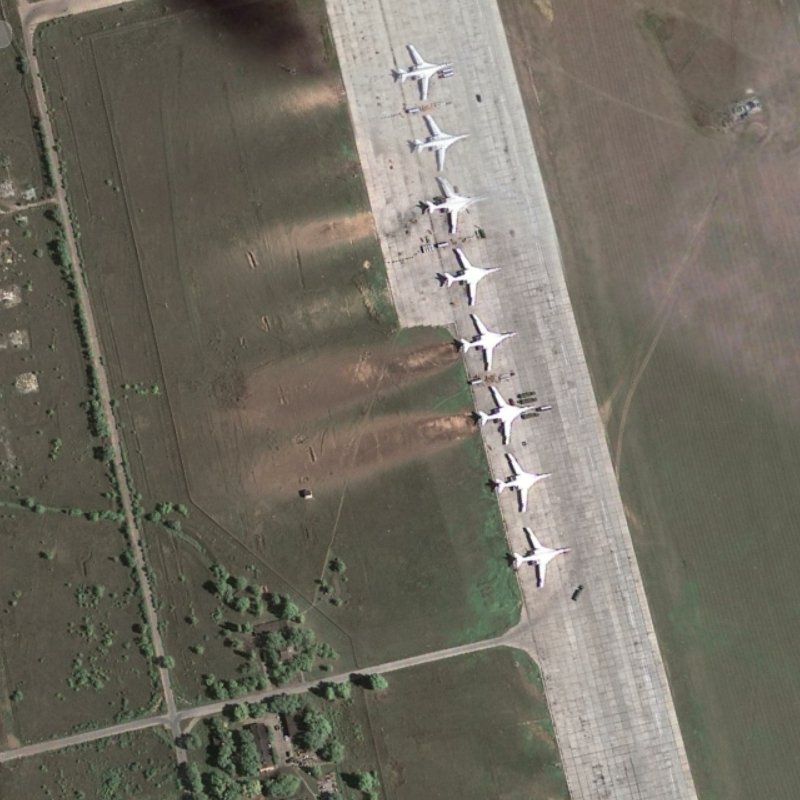A6: (420, 175, 489, 237), (456, 310, 520, 375), (511, 525, 574, 591), (409, 111, 474, 174), (475, 382, 538, 447), (441, 244, 502, 310), (494, 450, 555, 515), (395, 42, 456, 103)
